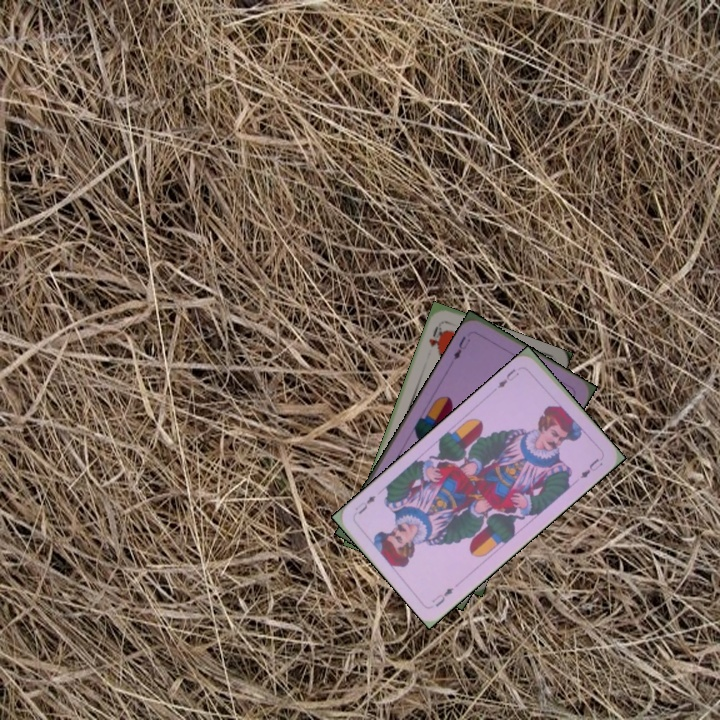EU: (491, 364, 521, 393), (428, 583, 457, 609), (449, 332, 473, 362)
HO: (425, 322, 447, 351)
